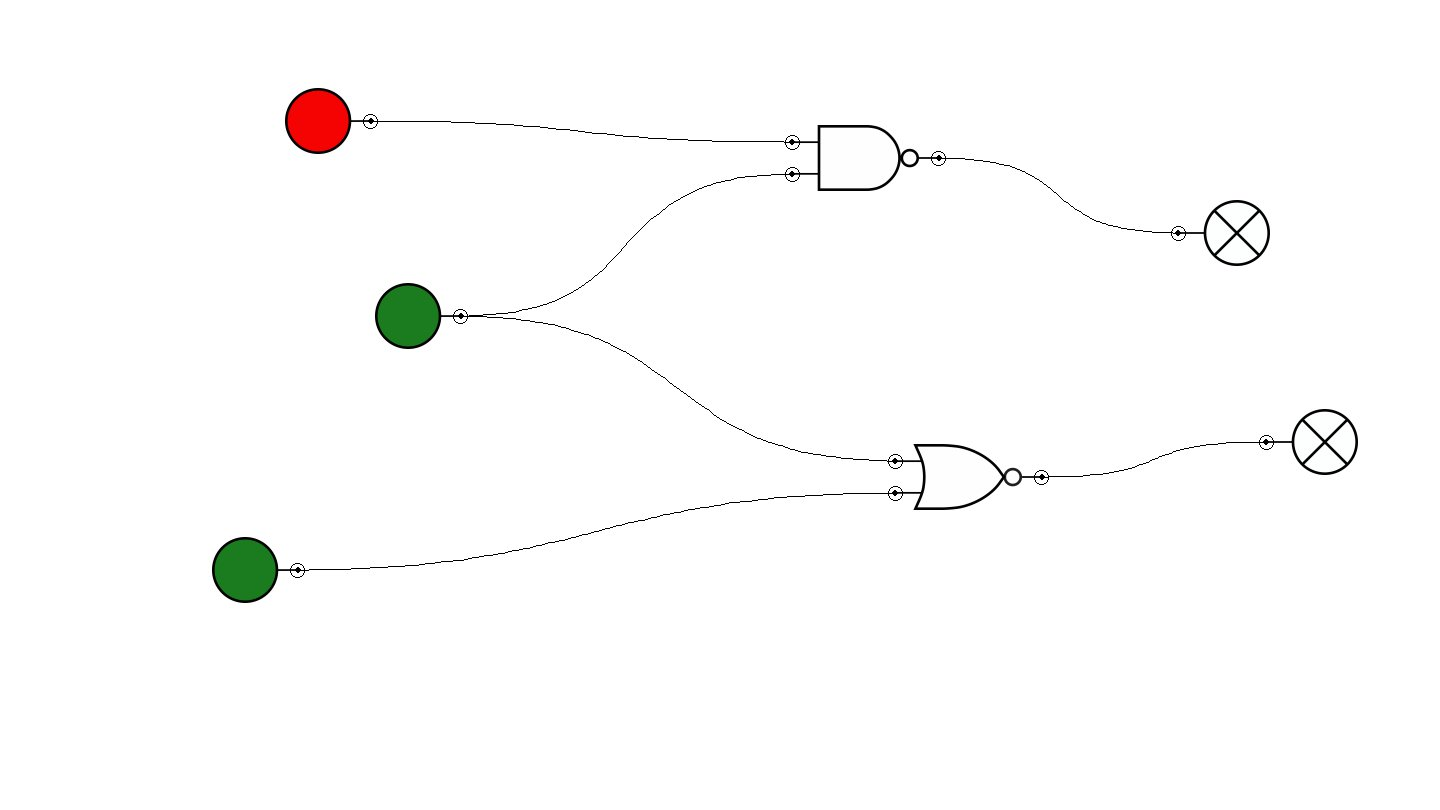bulb: (1171, 200, 1270, 266), (1259, 409, 1358, 475)
nand: (785, 125, 946, 191)
nor: (888, 444, 1049, 510)
switch_False: (285, 88, 378, 154)
switch_True: (375, 283, 468, 349), (212, 537, 305, 603)
